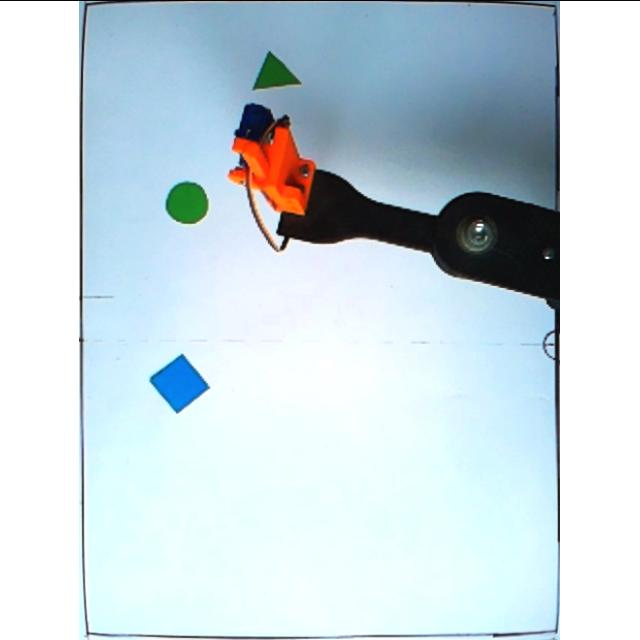blueSquare: (148, 352, 212, 413)
greenCircle: (166, 180, 212, 224)
greenTriangle: (251, 48, 303, 90)
